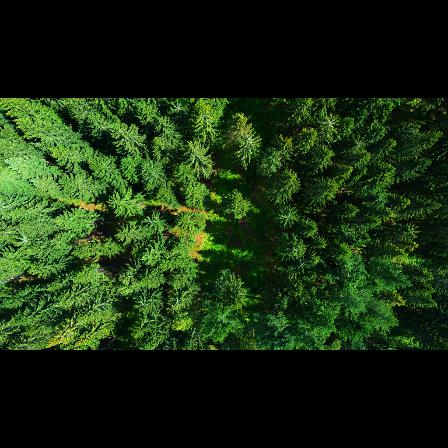Sick: (318, 112, 343, 135), (348, 134, 371, 156), (399, 222, 423, 243)
